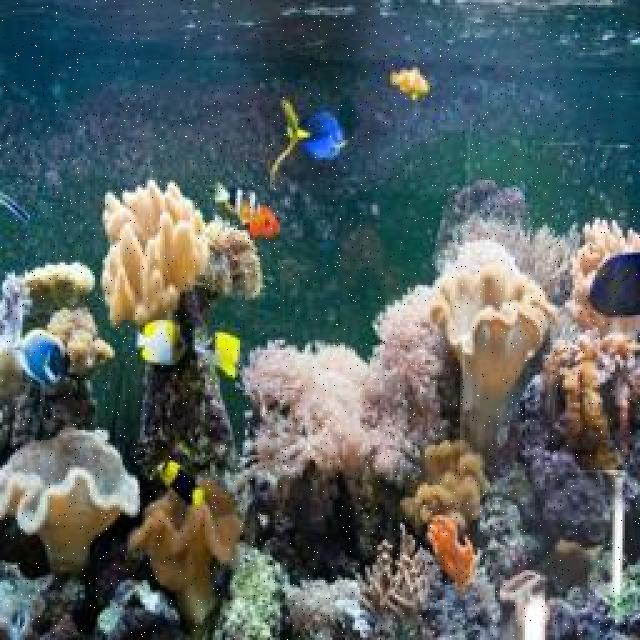fish: (267, 96, 348, 181), (3, 301, 71, 389), (213, 179, 280, 238), (593, 252, 638, 317), (136, 319, 190, 364), (192, 331, 244, 377), (151, 460, 204, 500), (390, 66, 429, 102)
reefs: (235, 180, 583, 500), (400, 263, 565, 541), (102, 177, 265, 325), (541, 217, 638, 463), (0, 425, 141, 573), (132, 478, 240, 629)
